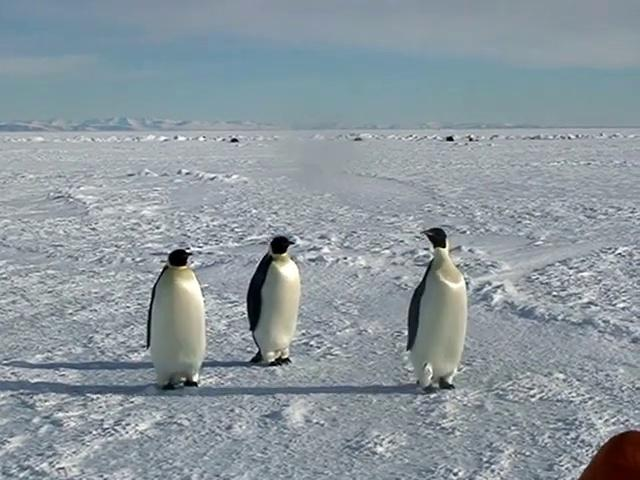animal: (408, 228, 466, 387)
